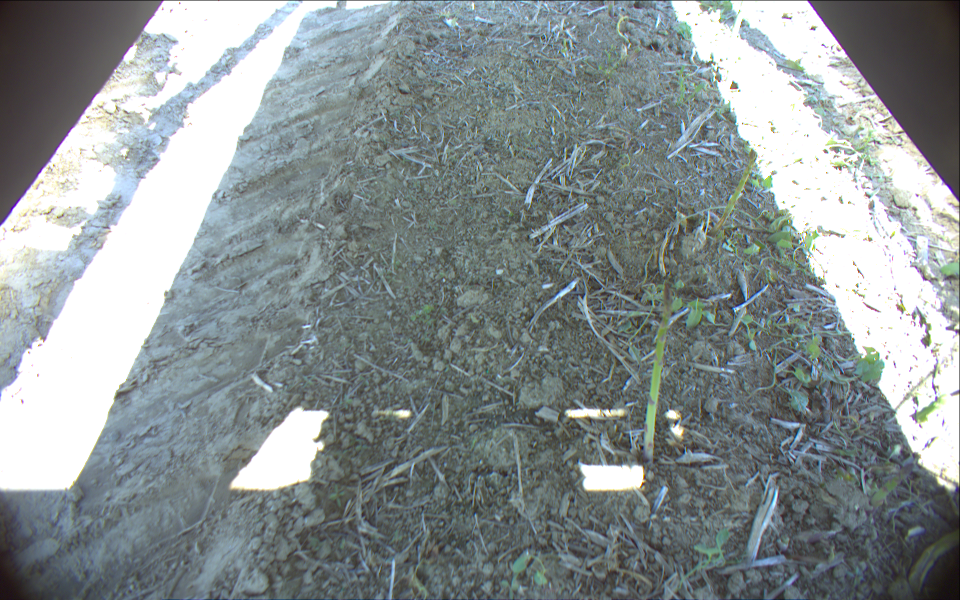aspa: (641, 280, 681, 467), (705, 147, 758, 242)
